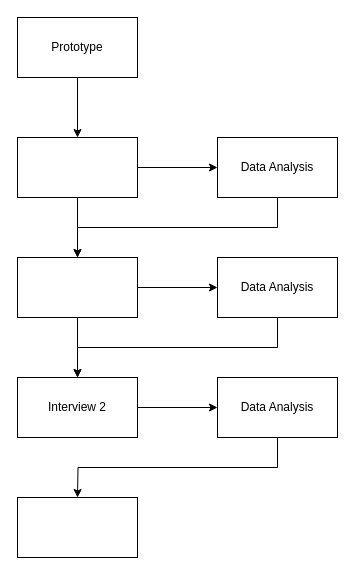
Some shapes in this 355 by 575 pixel diagram are drawn without their labels. Here are the shapes that lost their labels. From the top down, the centre of each, then its label:
the point at 77,167: Interview 1
the point at 77,287: Observation
the point at 77,527: Final Data Analysis
